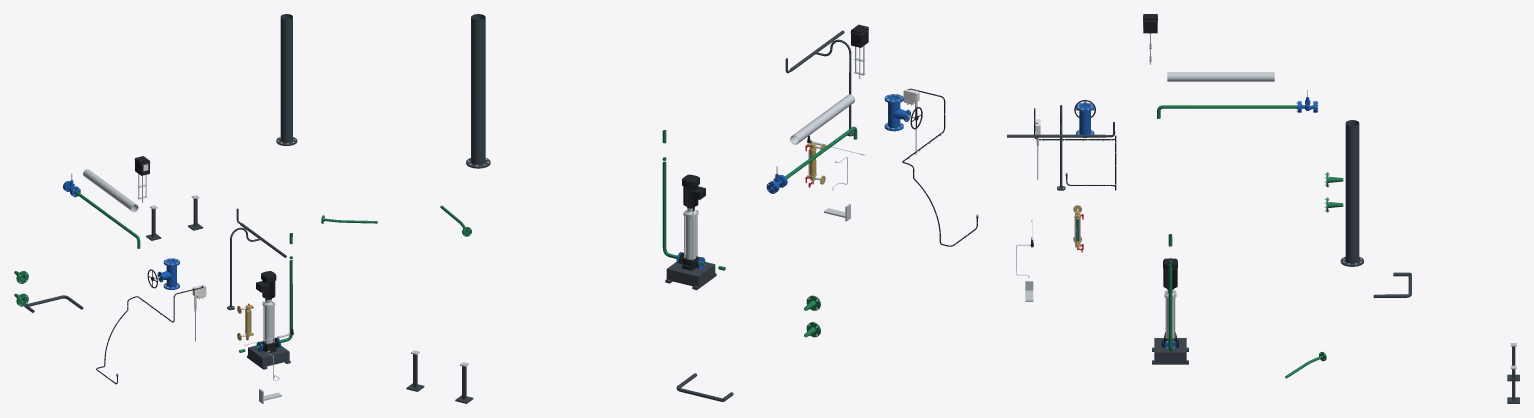
Rendered from s4000-4-DdntYMLv.glb.
The picture shows the model from 3 angles, left to right: view 1: azimuth 30°, elevation 25°; view 2: azimuth 150°, elevation 25°; view 3: azimuth 270°, elevation 25°; orthographic projection. The views are drawn at different scales.
Parts seen in each view (by area): view 1: bdv_vent / dark, pump_branch_1 / dark, steam_delivery / steel, pressure_header / dark, steam_manual / blue, pump_1 CAD solid 15, pump_branch_1 / green, trap_support / dark, wiring_lcs600 / black, pump_1 CAD solid 2, sight_glasses_2 / sight_glasses_2_0.npz; view 2: bdv_vent / dark, pump_branch_1 / dark, steam_delivery / steel, pressure_header / dark, steam_manual / blue, pump_branch_1 / green, pump_1 CAD solid 15, trap_support / dark; view 3: bdv_vent / dark, steam_delivery / steel, pump_branch_1 / dark, pressure_header / dark, direct_inlet / green, pump_branch_1 / green, steam_manual / blue.
Boxes of the visible parts, bbox=[...] form: bdv_vent / dark: bbox=[276, 14, 297, 145]; pump_branch_1 / dark: bbox=[247, 345, 290, 369]; steam_delivery / steel: bbox=[83, 169, 138, 212]; pressure_header / dark: bbox=[227, 208, 286, 309]; steam_manual / blue: bbox=[157, 258, 179, 289]; pump_1 CAD solid 15: bbox=[256, 271, 276, 299]; pump_branch_1 / green: bbox=[239, 233, 292, 352]; trap_support / dark: bbox=[146, 198, 203, 240]; wiring_lcs600 / black: bbox=[96, 285, 203, 384]; pump_1 CAD solid 2: bbox=[264, 306, 273, 343]; sight_glasses_2 / sight_glasses_2_0.npz: bbox=[237, 303, 253, 340]; bdv_vent / dark: bbox=[466, 14, 490, 168]; pump_branch_1 / dark: bbox=[665, 261, 716, 289]; steam_delivery / steel: bbox=[790, 94, 854, 144]; pressure_header / dark: bbox=[785, 30, 853, 136]; steam_manual / blue: bbox=[884, 94, 910, 131]; pump_branch_1 / green: bbox=[662, 130, 725, 270]; pump_1 CAD solid 15: bbox=[682, 174, 705, 207]; trap_support / dark: bbox=[406, 354, 473, 403]; bdv_vent / dark: bbox=[1340, 120, 1363, 266]; steam_delivery / steel: bbox=[1167, 72, 1274, 81]; pump_branch_1 / dark: bbox=[1152, 338, 1188, 364]; pressure_header / dark: bbox=[1007, 105, 1115, 190]; direct_inlet / green: bbox=[1157, 105, 1297, 118]; pump_branch_1 / green: bbox=[1168, 234, 1172, 351]; steam_manual / blue: bbox=[1076, 102, 1094, 137].
Size of the model in its own units: 5.6 by 3.85 by 6.2.
